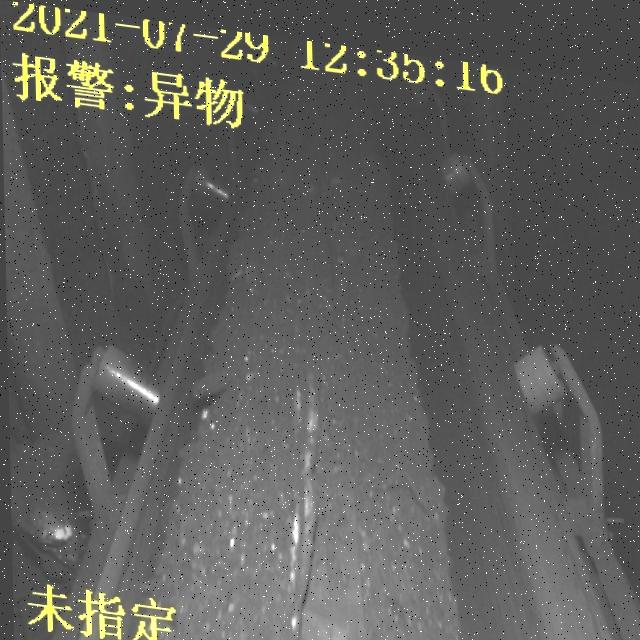bolt: (268, 317, 338, 640)
